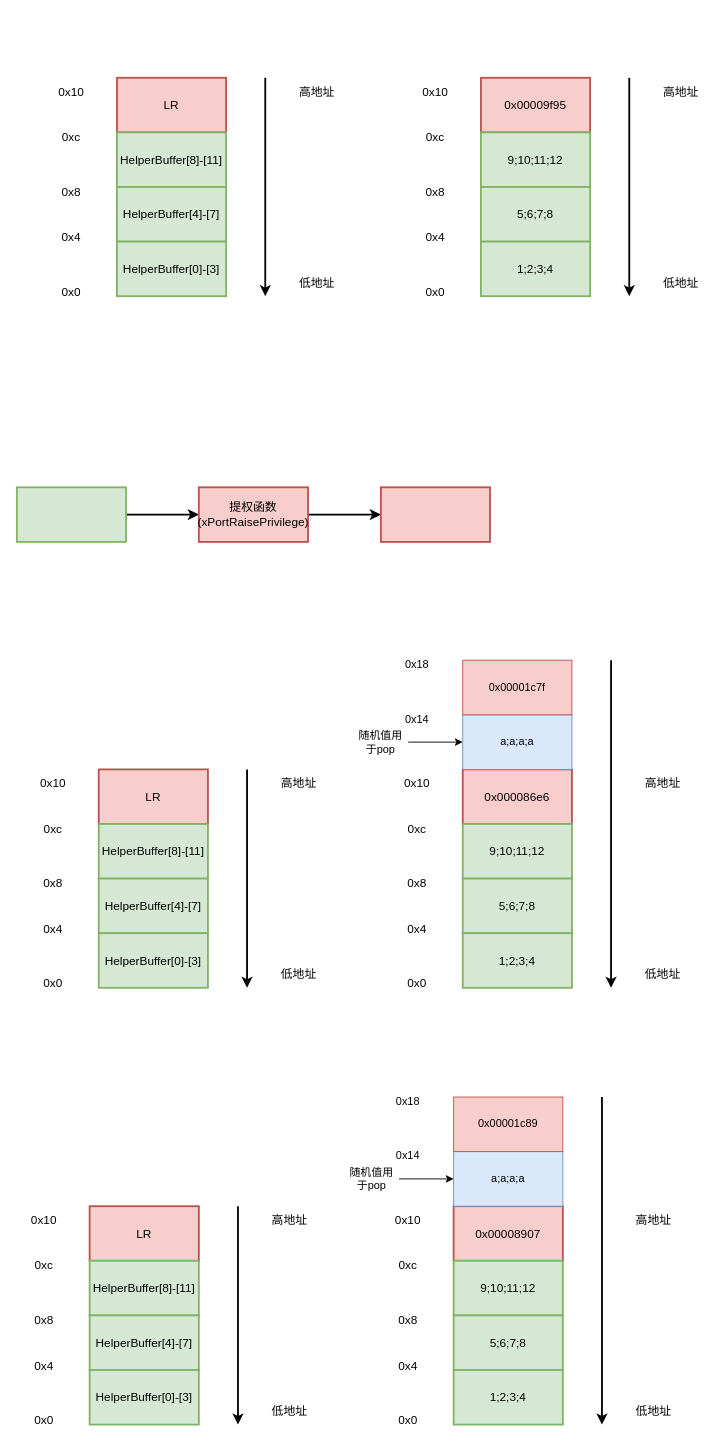
Some shapes in this 723 by 1449 pixel diagram are drawn without their labels. The shapes that lost their labels are listed below. From the top down, each one's centre as x and y in pixels, then its label:
(x=70, y=514): Transfer(正常程序流)
(x=434, y=514): 输出flag函数(vTaskRebot)
